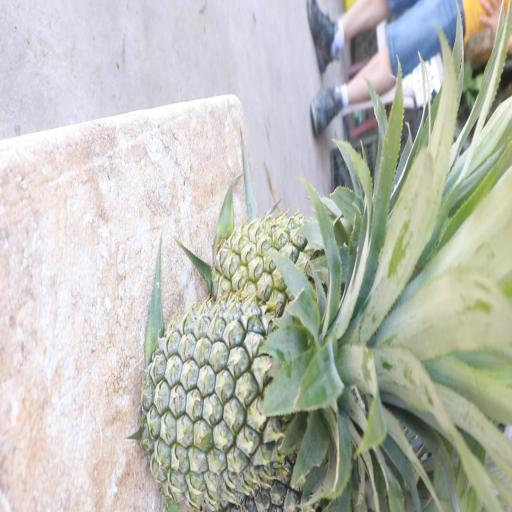Pineapple - v8 v1: (211, 189, 354, 316)
